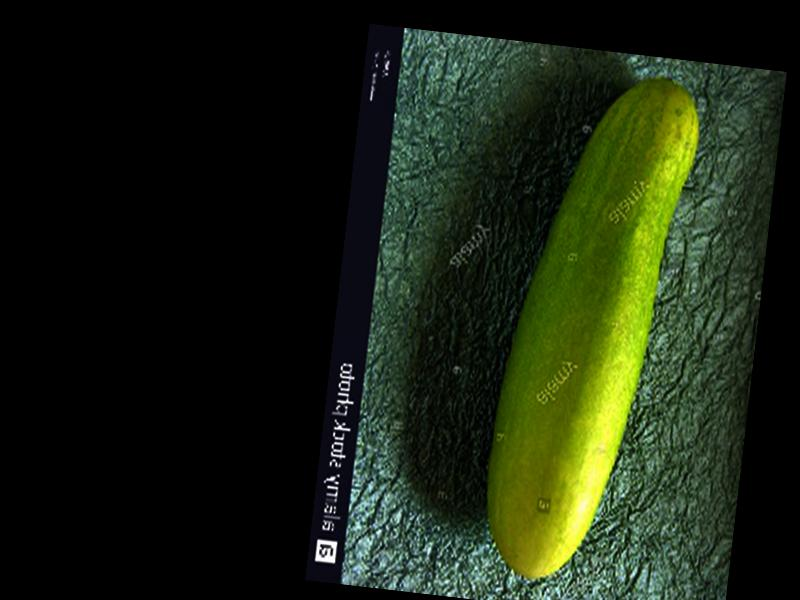Cucumber: (477, 62, 705, 591)
